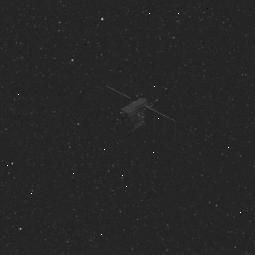smart_1: (105, 81, 178, 151)
